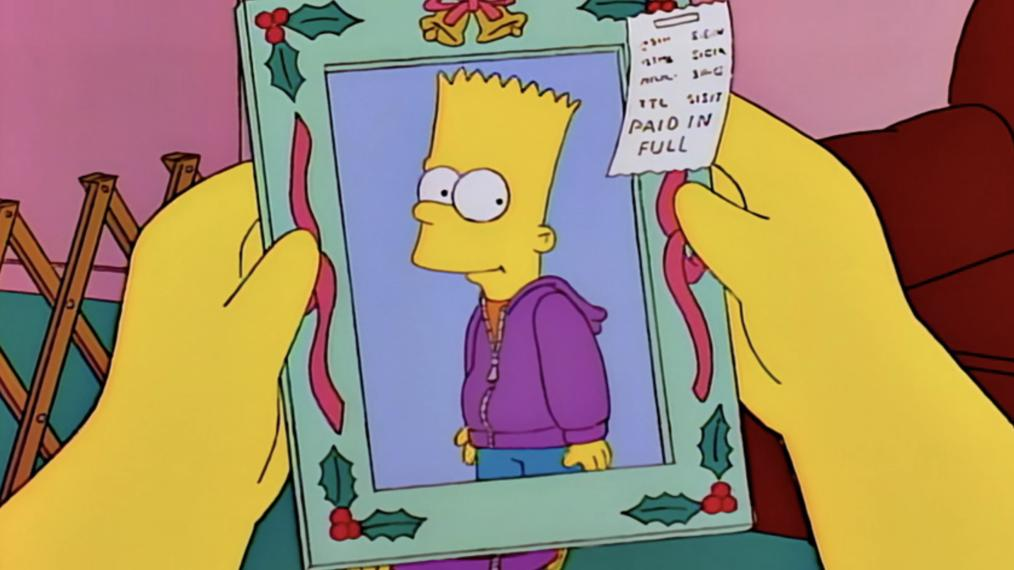Bart: (373, 51, 644, 500)
